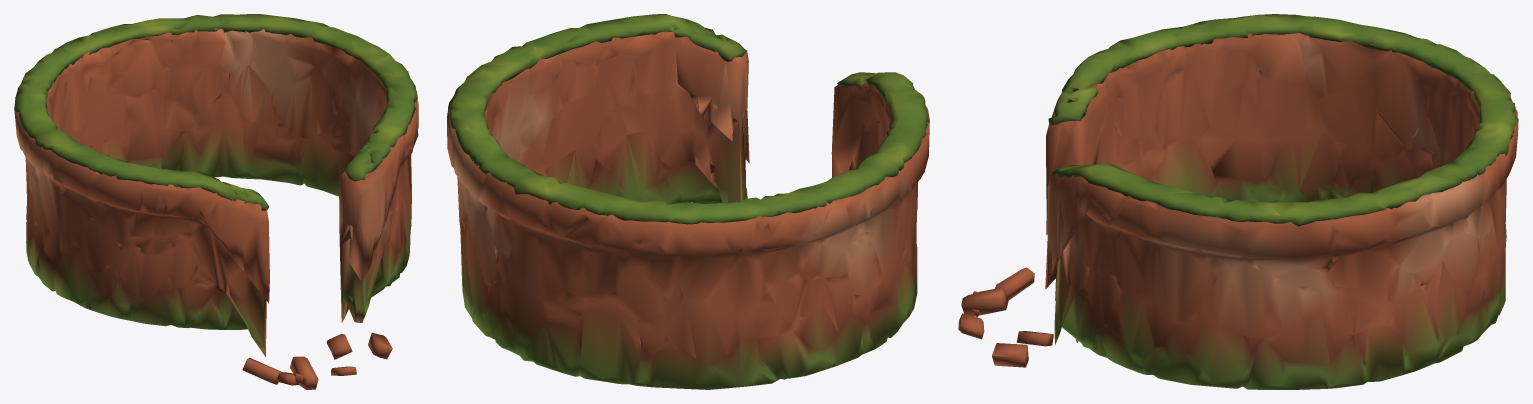
The model's file is mire_cracked_pot_lod1.glb.
3 renders of one model, left to right at view 1: azimuth 30°, elevation 25°; view 2: azimuth 150°, elevation 25°; view 3: azimuth 270°, elevation 25°, orthographic. The views are drawn at different scales.
Parts seen in each view (by area): view 1: mire_cracked_pot.001; view 2: mire_cracked_pot.001; view 3: mire_cracked_pot.001.
Boxes of the visible parts, x1,y1,x2,y2 form: mire_cracked_pot.001: (14,14,418,389); mire_cracked_pot.001: (447,14,929,389); mire_cracked_pot.001: (958,14,1518,389).
Size of the model in its own units: 34.91 by 17.9 by 40.08.
